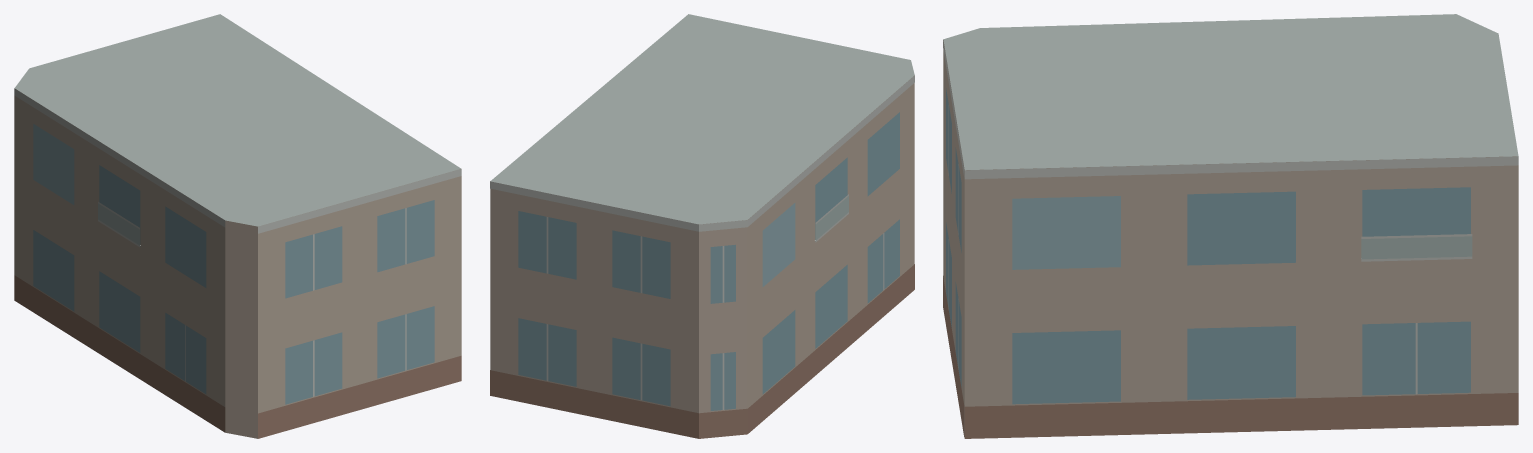
File: survey-upis-32737526.glb
3 views of the same model, side by side, from view 1: azimuth 30°, elevation 25°; view 2: azimuth 150°, elevation 25°; view 3: azimuth 270°, elevation 25° (orthographic). The views are drawn at different scales.
Visible parts, largest first — view 1: survey-upis-32737526.tmp; view 2: survey-upis-32737526.tmp; view 3: survey-upis-32737526.tmp.
Part boxes in pixels (box(x1,y1,x2,y2)): survey-upis-32737526.tmp: box(14, 14, 461, 438); survey-upis-32737526.tmp: box(490, 14, 914, 438); survey-upis-32737526.tmp: box(943, 14, 1518, 438).
Bounding box in the file's own units: 8.92 × 7.15 × 13.88.
